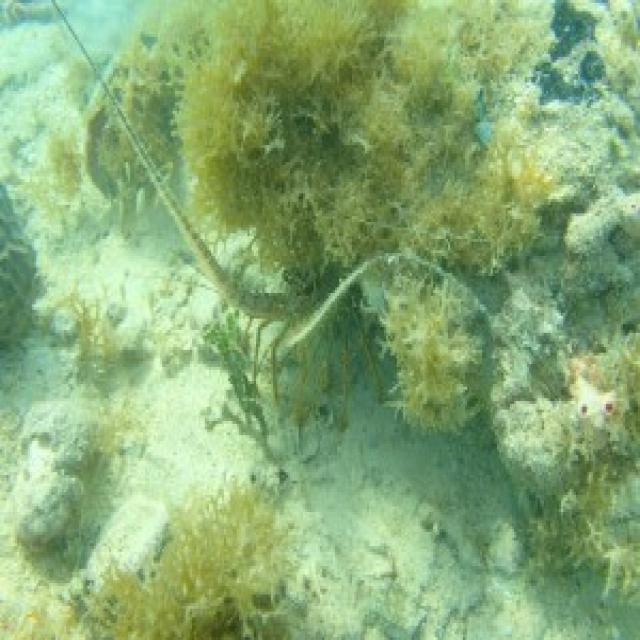lobsters: (81, 141, 469, 475)
